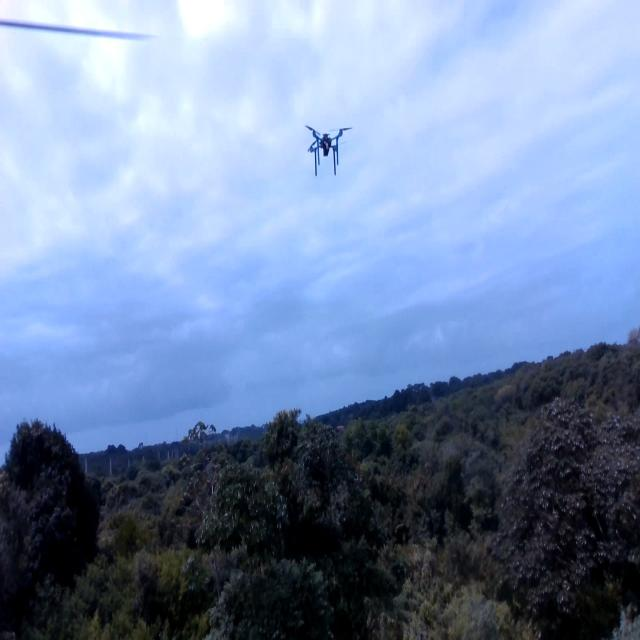-uav-: (296, 114, 356, 184)
